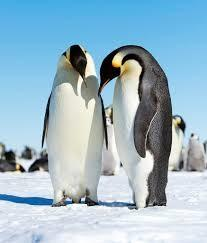emporer: (32, 34, 113, 214)
